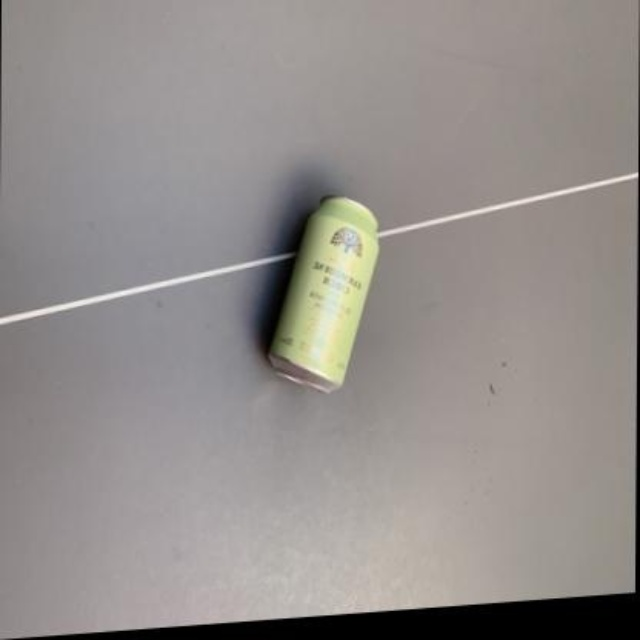trash: (269, 197, 377, 391)
